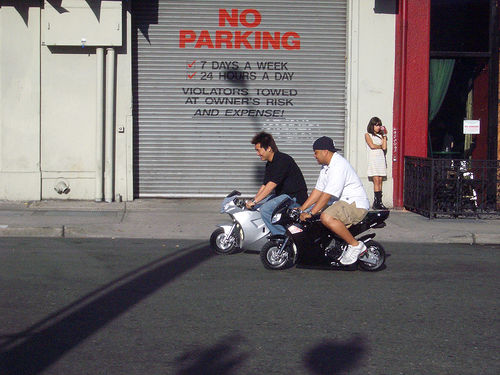without_mask: (311, 140, 336, 167), (251, 138, 276, 163), (370, 118, 384, 135)
